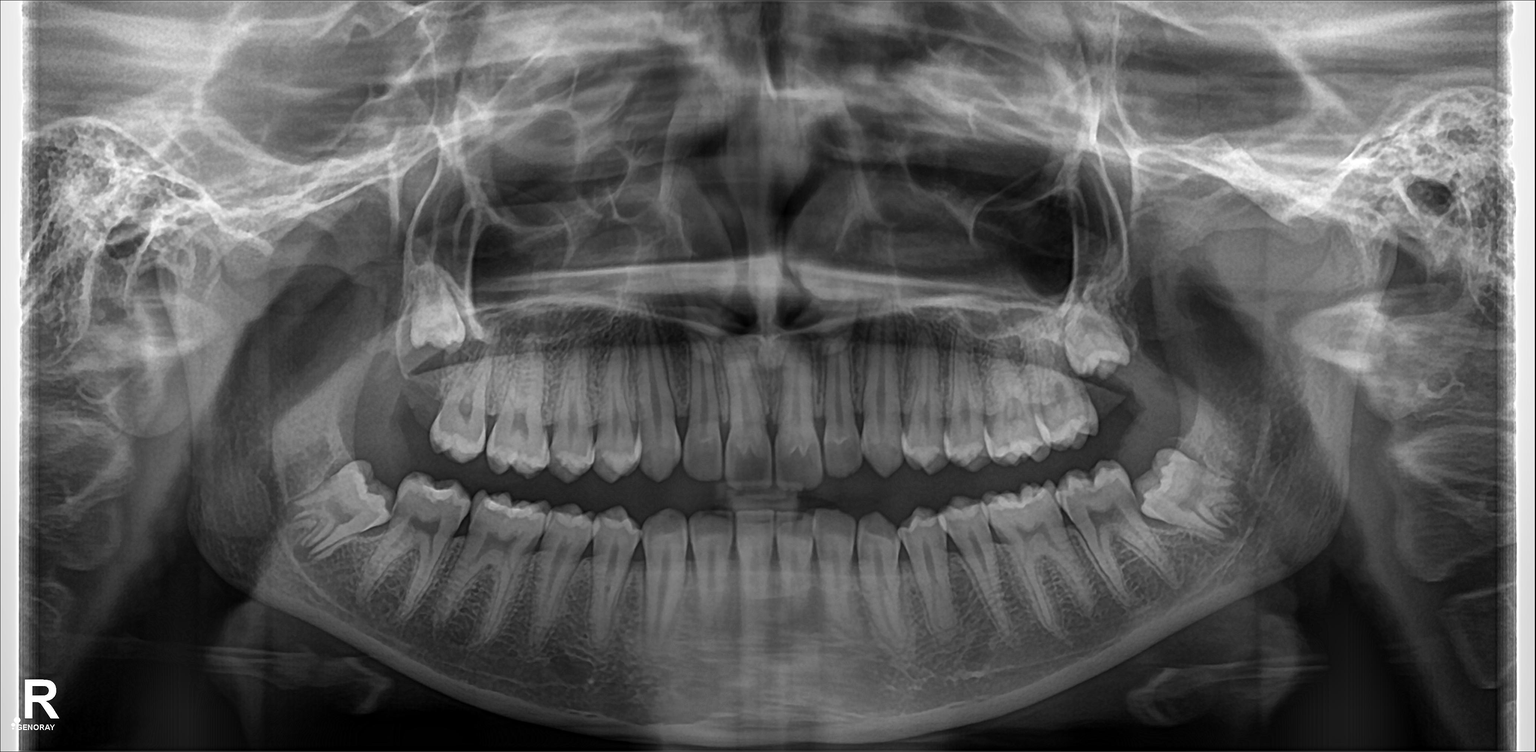Dental Caries: (777, 436, 816, 483), (728, 445, 769, 487)
Impacted Third Molar: (1136, 458, 1250, 532), (294, 465, 384, 545), (1054, 309, 1138, 369), (406, 281, 468, 359)
Missing Tooth: (380, 342, 448, 463)
